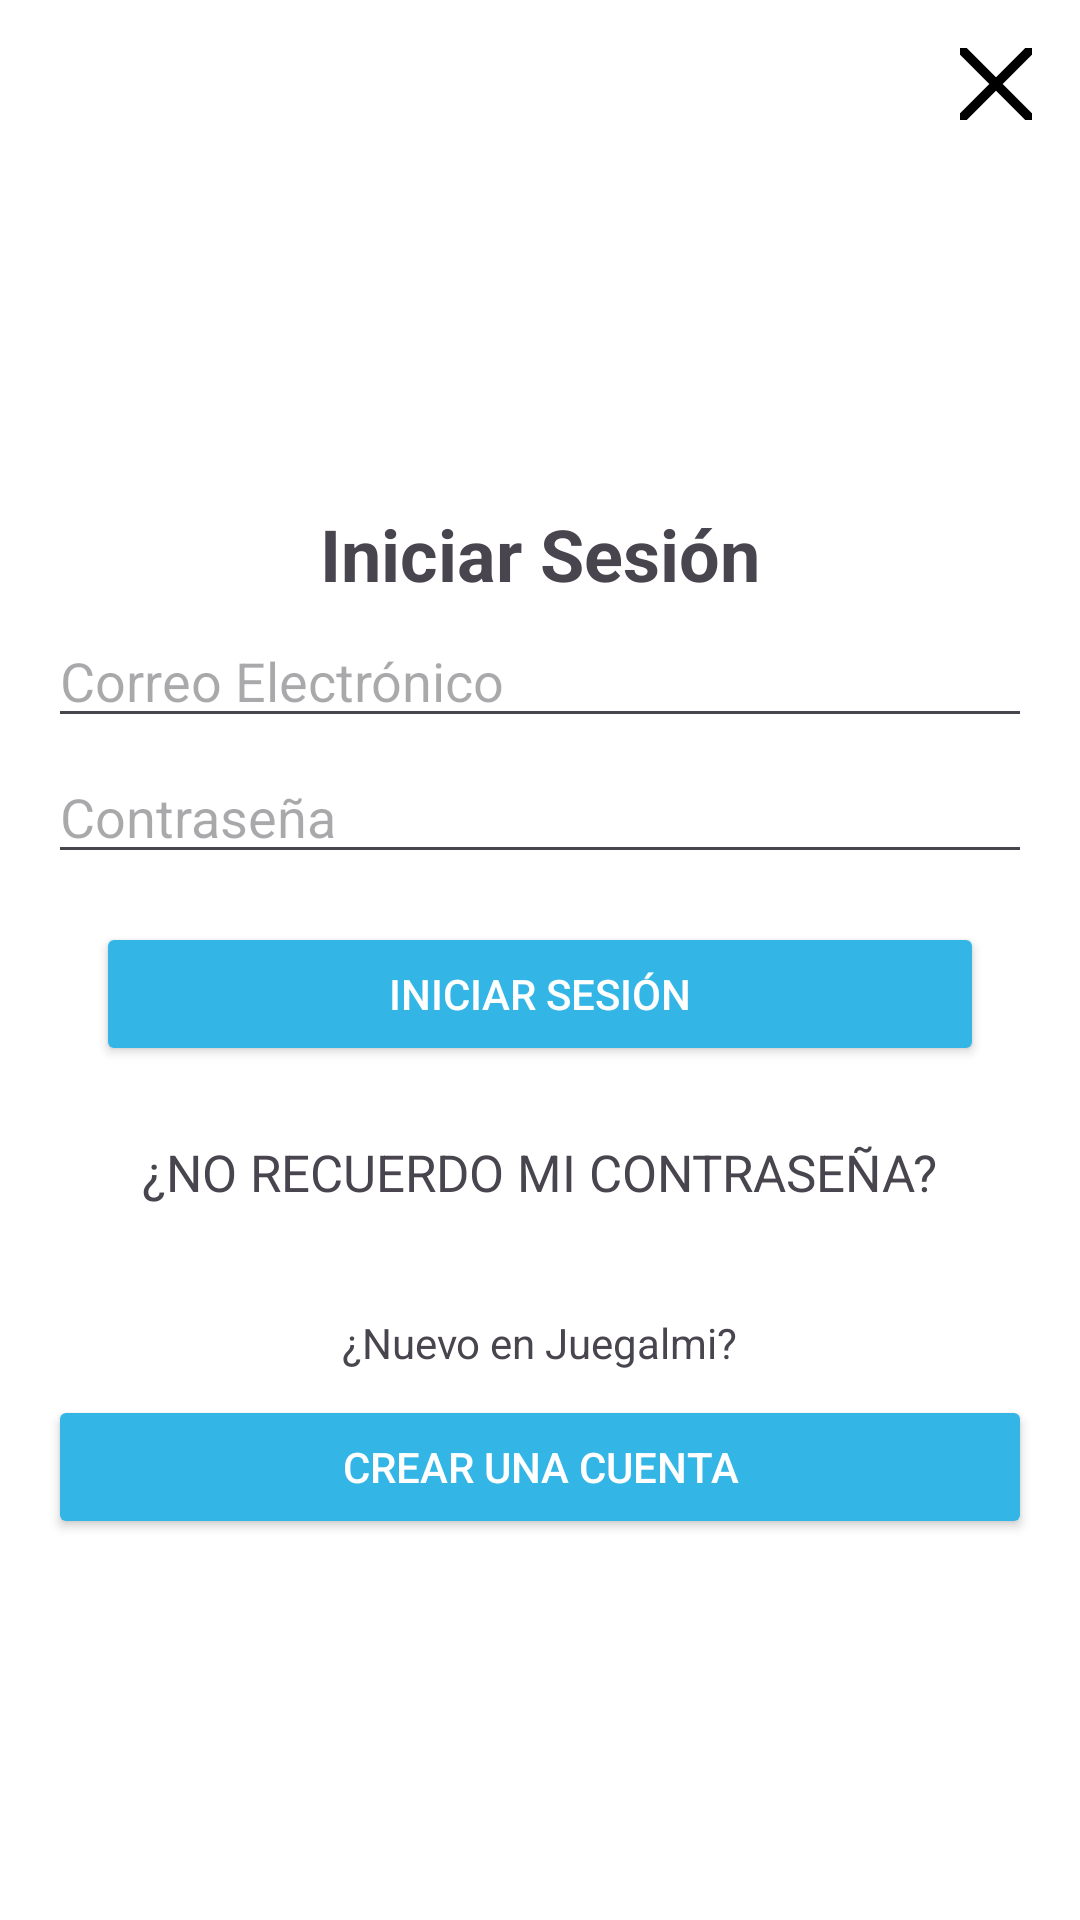

Point at icon controls on the screen. Image size 1080*1920, points as (x=x, y=y).
Cerrar: (x=996, y=84)
